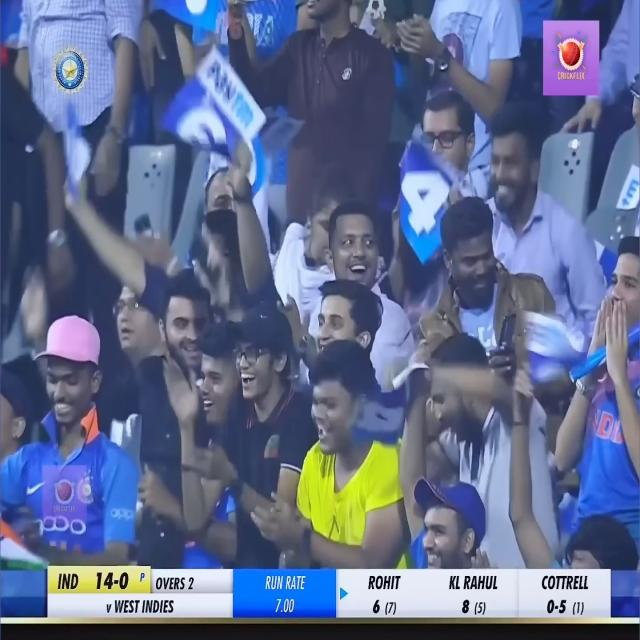fully_visible: (205, 42, 263, 138)
